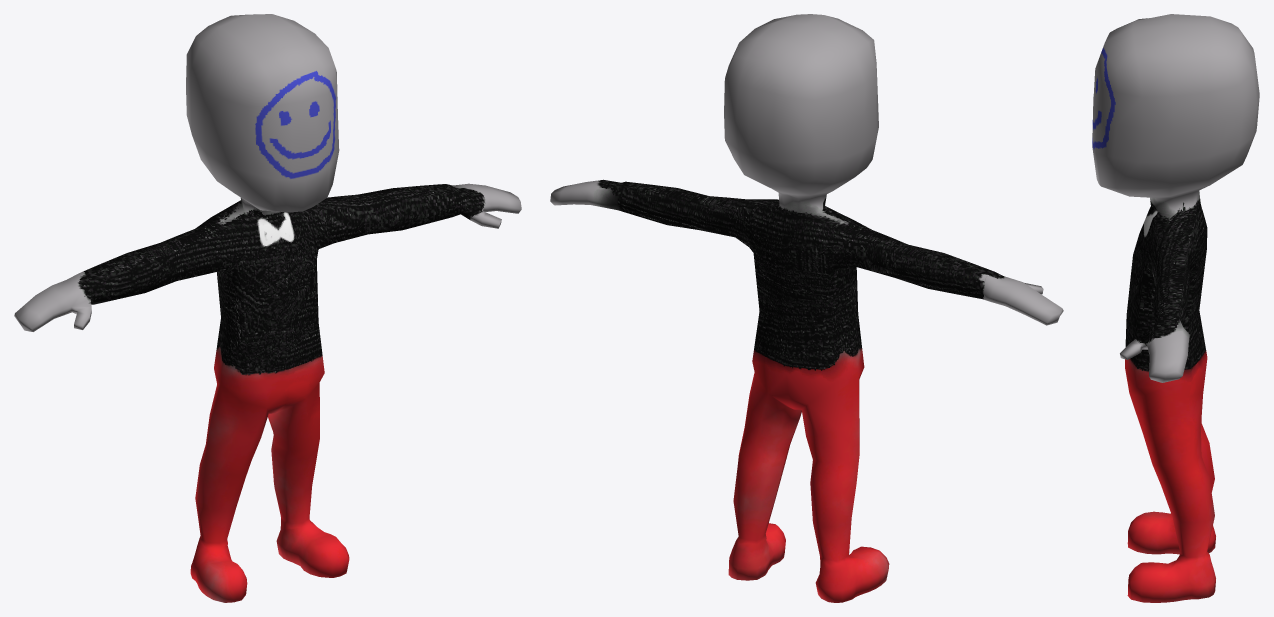
Rendered from PlayerOneSkin.fbx.
The picture shows the model from 3 angles, left to right: view 1: azimuth 30°, elevation 25°; view 2: azimuth 150°, elevation 25°; view 3: azimuth 270°, elevation 25°; orthographic projection.
Visible parts, largest first — view 1: node_id63; view 2: node_id63; view 3: node_id63.
Boxes of the visible parts, x1=… form: node_id63: x1=14, y1=14, x2=521, y2=602; node_id63: x1=550, y1=14, x2=1063, y2=602; node_id63: x1=1092, y1=14, x2=1259, y2=602.
Size of the model in its own units: 0.4921 by 0.512 by 0.1425.
Materials: 1 (1 with a texture image).
